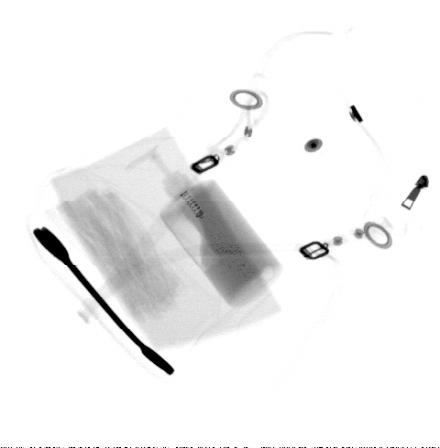Wrench: (31, 223, 176, 379)
